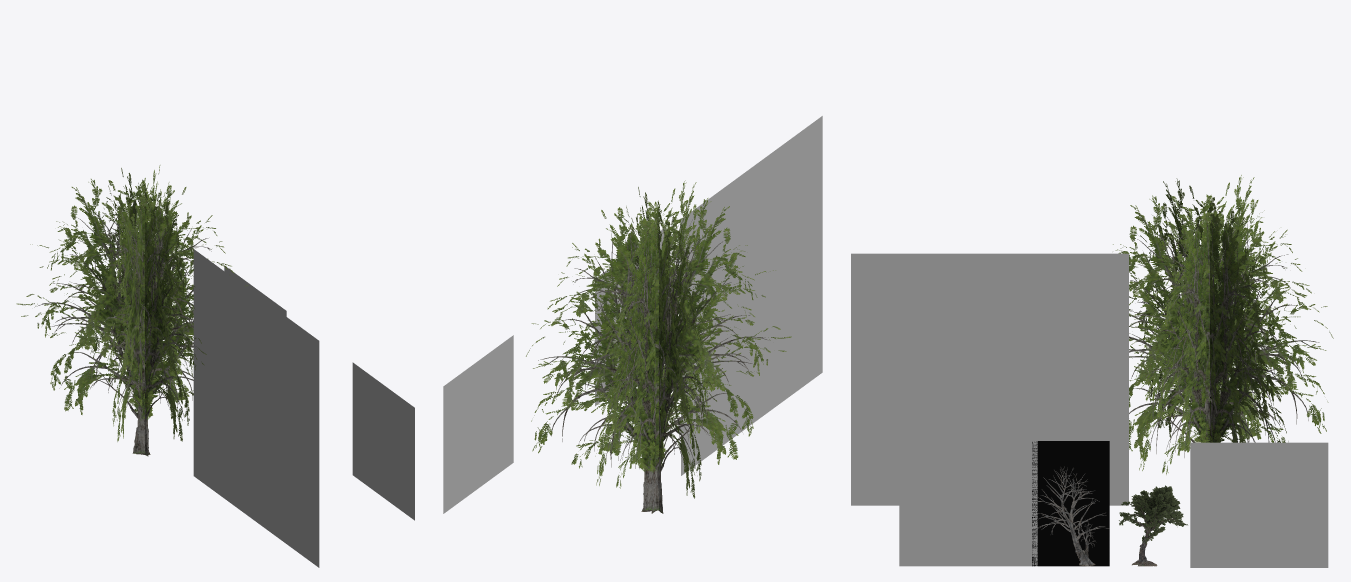
The model's file is AllBillboards.fbx.
3 views of the same model, side by side, from view 1: azimuth 30°, elevation 25°; view 2: azimuth 150°, elevation 25°; view 3: azimuth 270°, elevation 25° (orthographic). The views are drawn at different scales.
Visible parts, largest first — view 1: Tree3Billboard, BigTreeBillboard.001, Tree1Billboard; view 2: BigTreeBillboard.001, Tree3Billboard, Tree4Billboard, Tree1Billboard; view 3: Tree3Billboard, BigTreeBillboard.001, Tree4Billboard, Tree1Billboard, DeadTreeBillboard, CrazyRootsBillboard.
Part boxes in pixels (box(x1,y1,x2,y2)): Tree3Billboard: box(193, 249, 319, 567); BigTreeBillboard.001: box(16, 165, 248, 456); Tree1Billboard: box(352, 362, 414, 520); BigTreeBillboard.001: box(526, 180, 791, 513); Tree3Billboard: box(681, 116, 822, 475); Tree4Billboard: box(443, 335, 513, 513); Tree1Billboard: box(595, 228, 664, 406); Tree3Billboard: box(851, 253, 1128, 505); BigTreeBillboard.001: box(1113, 175, 1333, 474); Tree4Billboard: box(1190, 442, 1328, 567); Tree1Billboard: box(899, 441, 1037, 566); DeadTreeBillboard: box(1032, 441, 1109, 566); CrazyRootsBillboard: box(1119, 485, 1187, 566).
Bounding box in the file's own units: 1194 × 1977 × 1997.
